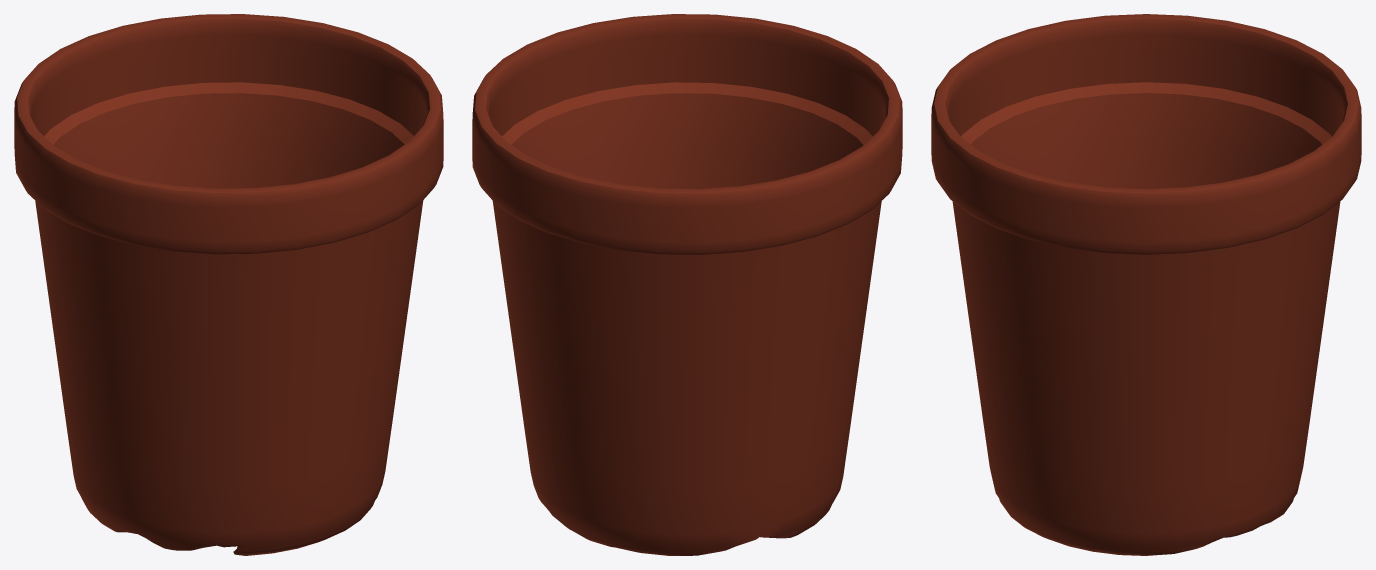
File: plantpothiding.fbx
3 renders of one model, left to right at view 1: azimuth 30°, elevation 25°; view 2: azimuth 150°, elevation 25°; view 3: azimuth 270°, elevation 25°, orthographic.
Parts seen in each view (by area): view 1: Cylinder.010; view 2: Cylinder.010; view 3: Cylinder.010.
Boxes of the visible parts, <box> form: Cylinder.010: <box>14,14,443,555</box>; Cylinder.010: <box>472,14,902,555</box>; Cylinder.010: <box>931,14,1361,555</box>.
Bounding box in the file's own units: 211 × 216 × 211.
